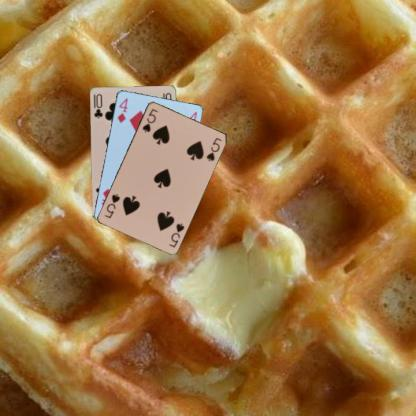10c: (92, 91, 104, 120)
4d: (114, 95, 129, 124)
5s: (166, 220, 186, 249), (140, 106, 159, 133)
